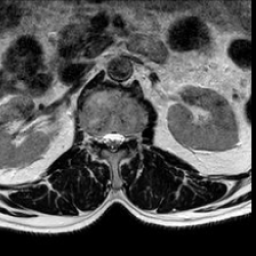CCS_normal: (109, 124, 116, 158)
LFS_normal: (124, 123, 134, 148)
LLS_normal: (116, 124, 124, 152)
RFS_normal: (94, 123, 102, 151)
RLS_normal: (102, 124, 109, 152)
